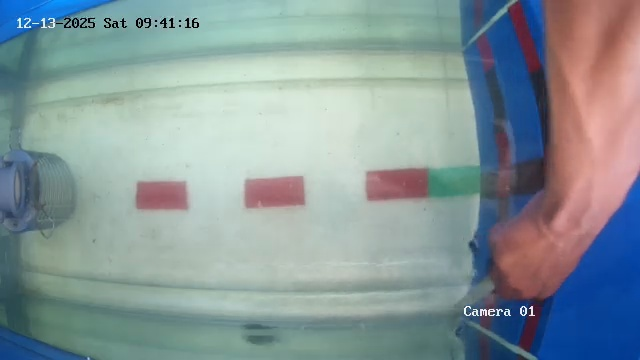fish: (248, 315, 297, 337)
